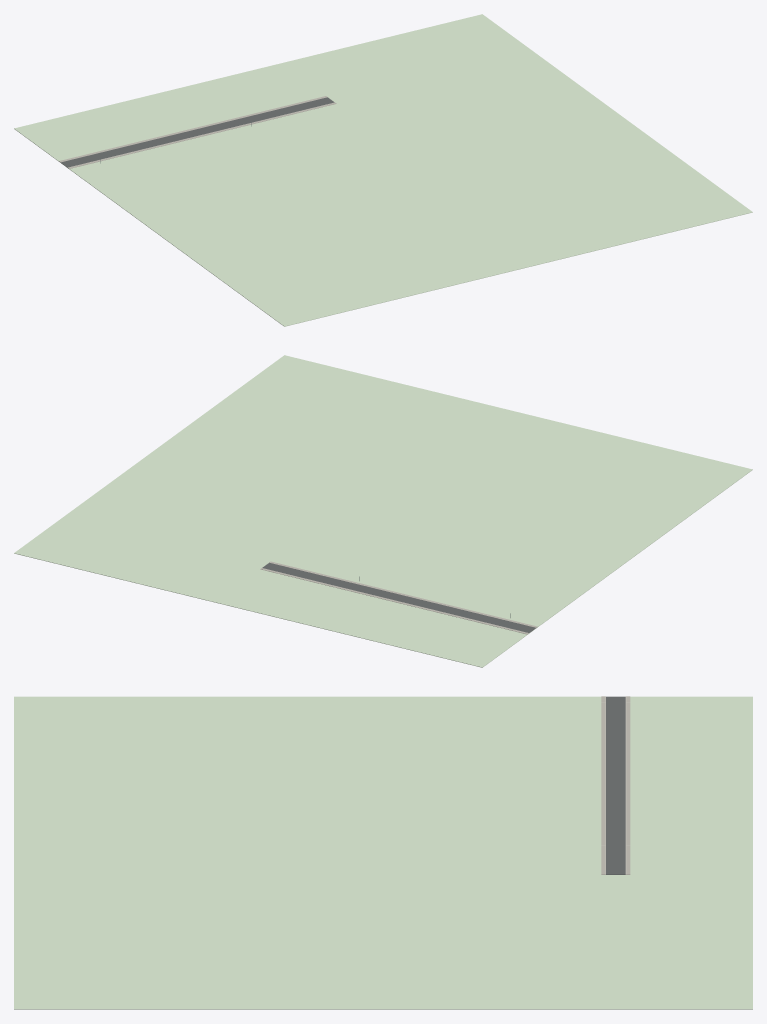
File: chunk_3_4_low.glb
The picture shows the model from 3 angles, top to bottom: view 1: azimuth 30°, elevation 25°; view 2: azimuth 150°, elevation 25°; view 3: azimuth 270°, elevation 25°; orthographic projection. The views are drawn at different scales.
Parts seen in each view (by area): view 1: city_grass, city_world_asphalt, city_world_sidewalk; view 2: city_grass, city_world_asphalt, city_world_sidewalk; view 3: city_grass, city_world_asphalt, city_world_sidewalk, city_curb.
Part boxes in pixels (box(x1,y1,x2,y2)): city_grass: box(14, 14, 752, 326); city_world_asphalt: box(61, 97, 334, 167); city_world_sidewalk: box(59, 96, 336, 168); city_grass: box(14, 355, 752, 667); city_world_asphalt: box(262, 563, 535, 632); city_world_sidewalk: box(260, 561, 537, 634); city_grass: box(14, 696, 752, 1009); city_world_asphalt: box(606, 696, 625, 874); city_world_sidewalk: box(601, 696, 630, 874); city_curb: box(601, 696, 629, 874).
Bounding box in the file's own units: 512 × 5.42 × 512.
